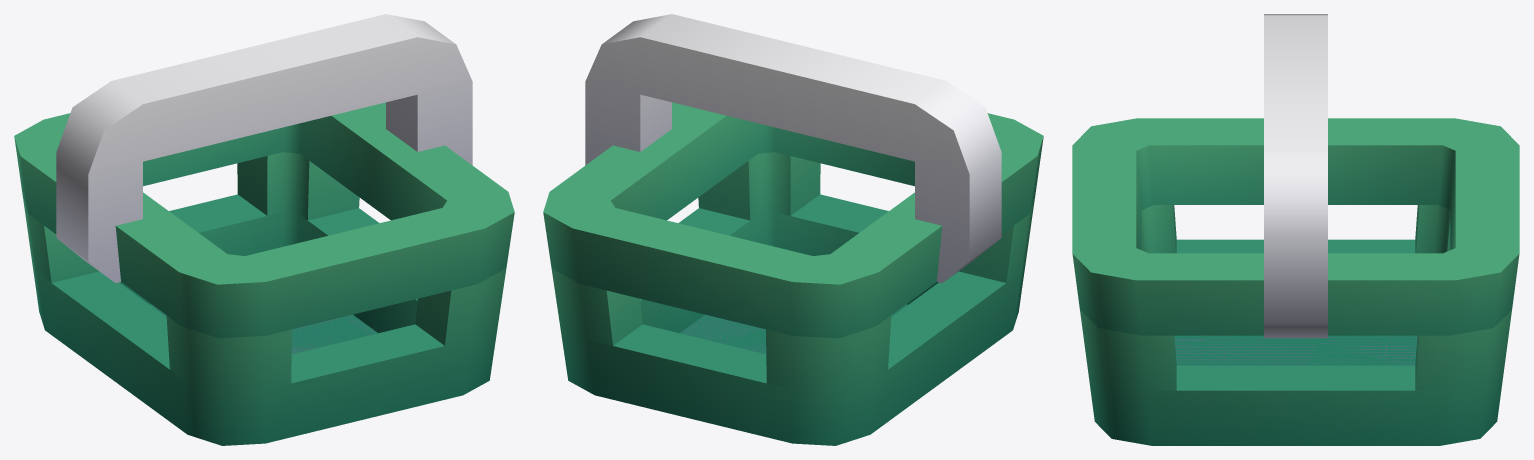
Rendered from shopping-basket.glb.
The picture shows the model from 3 angles, left to right: view 1: azimuth 30°, elevation 25°; view 2: azimuth 150°, elevation 25°; view 3: azimuth 270°, elevation 25°; orthographic projection.
Visible parts, largest first — view 1: shopping-basket; view 2: shopping-basket; view 3: shopping-basket.
Boxes of the visible parts, left/top/right/bottom form: shopping-basket: left=14, top=14, right=514, bottom=445; shopping-basket: left=543, top=14, right=1043, bottom=445; shopping-basket: left=1072, top=14, right=1519, bottom=445.
Size of the model in its own units: 0.35 by 0.25 by 0.35.
1 material, 1 textured.
